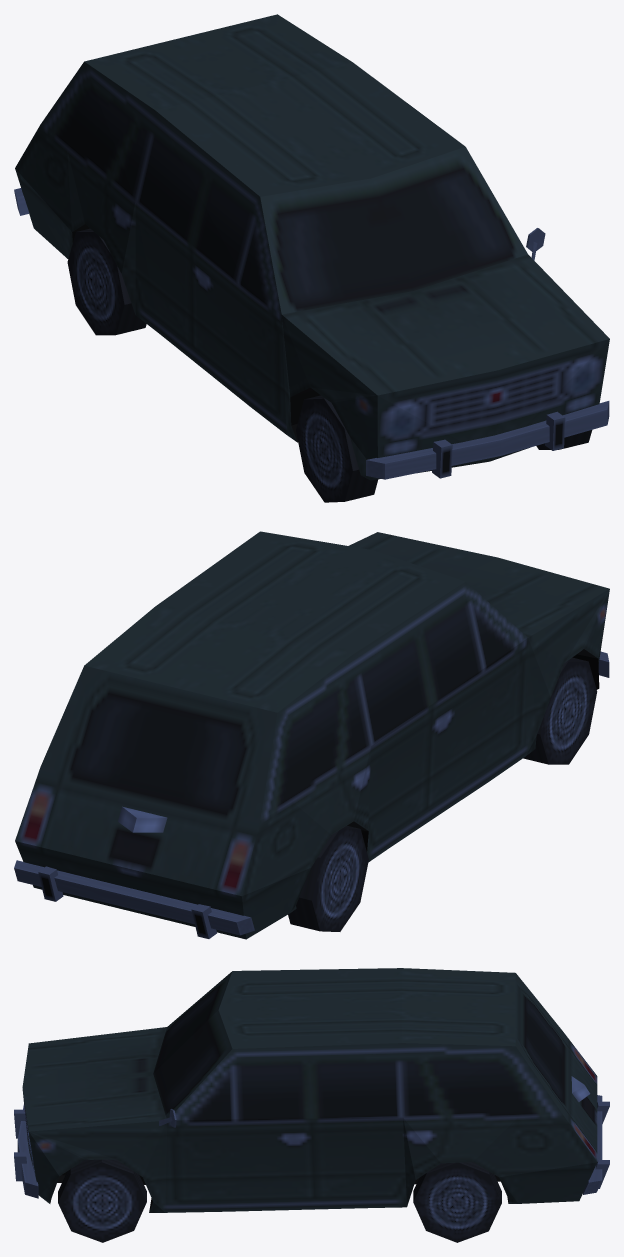
3 views of the same model, one above another, from view 1: azimuth 30°, elevation 25°; view 2: azimuth 150°, elevation 25°; view 3: azimuth 270°, elevation 25° (orthographic). The views are drawn at different scales.
Visible parts, largest first — view 1: car; view 2: car; view 3: car.
Boxes of the visible parts, x1=… form: car: x1=14, y1=14, x2=609, y2=502; car: x1=14, y1=531, x2=609, y2=939; car: x1=14, y1=968, x2=609, y2=1242.
Size of the model in its own units: 2.56 by 2.17 by 6.15.
1 material, 1 textured.
